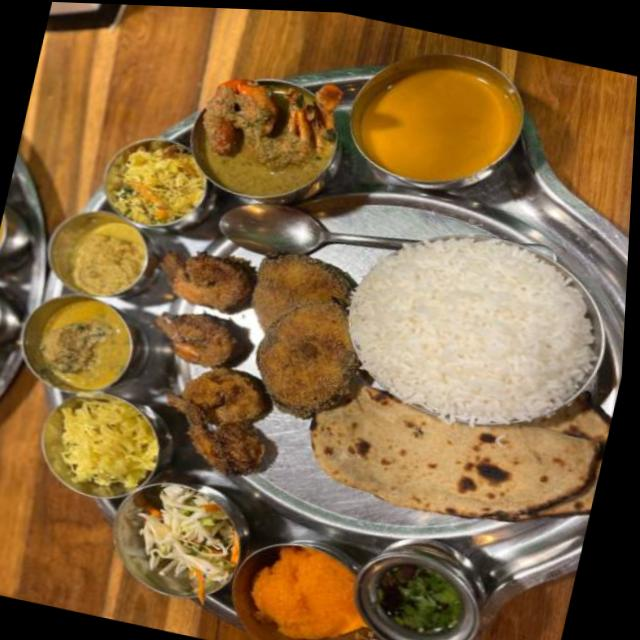CHAPATHI: (313, 388, 610, 519)
CURRY: (185, 73, 337, 197), (23, 293, 144, 393), (48, 213, 148, 298)
RASAM: (361, 548, 474, 640)
RICE: (347, 237, 611, 423)
SAMBAR: (350, 46, 528, 189)
SWEET: (237, 545, 371, 640)
VEGGIES: (150, 242, 359, 483), (110, 472, 248, 595), (39, 384, 159, 491), (105, 137, 207, 228)
